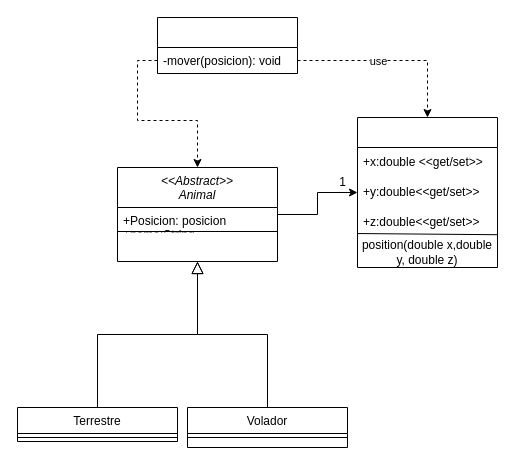
Some shapes in this 516 by 465 pixel diagram are drawn without their labels. Each missing label, with the box of its shape:
<<Interface>> movimiento: (156, 16, 298, 74)
posicion: (356, 116, 498, 268)
